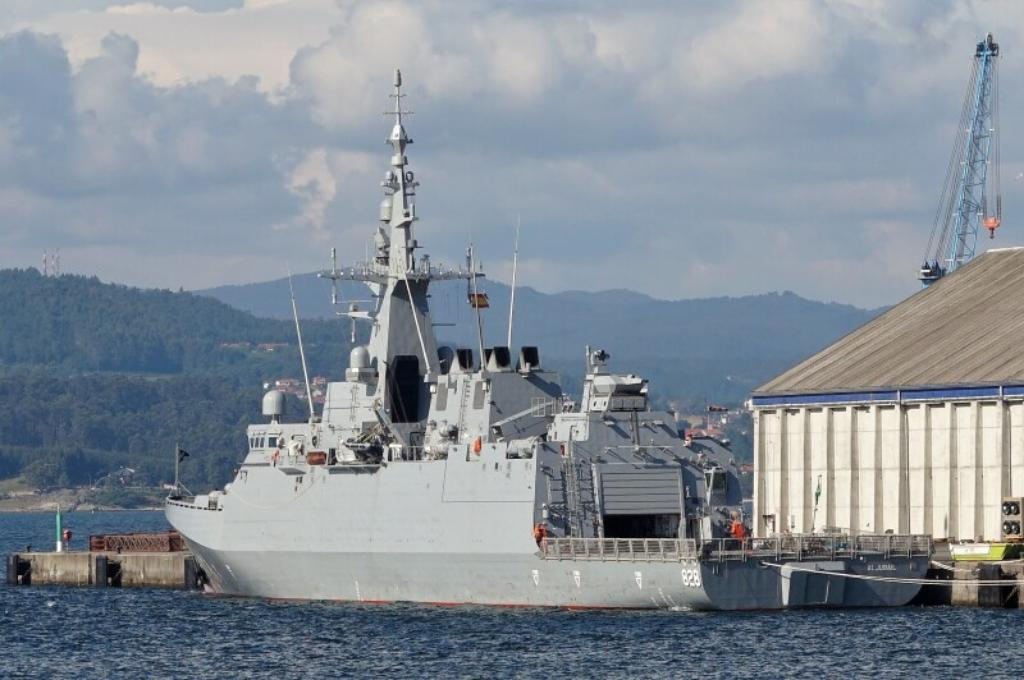Warship: (162, 72, 936, 612)
